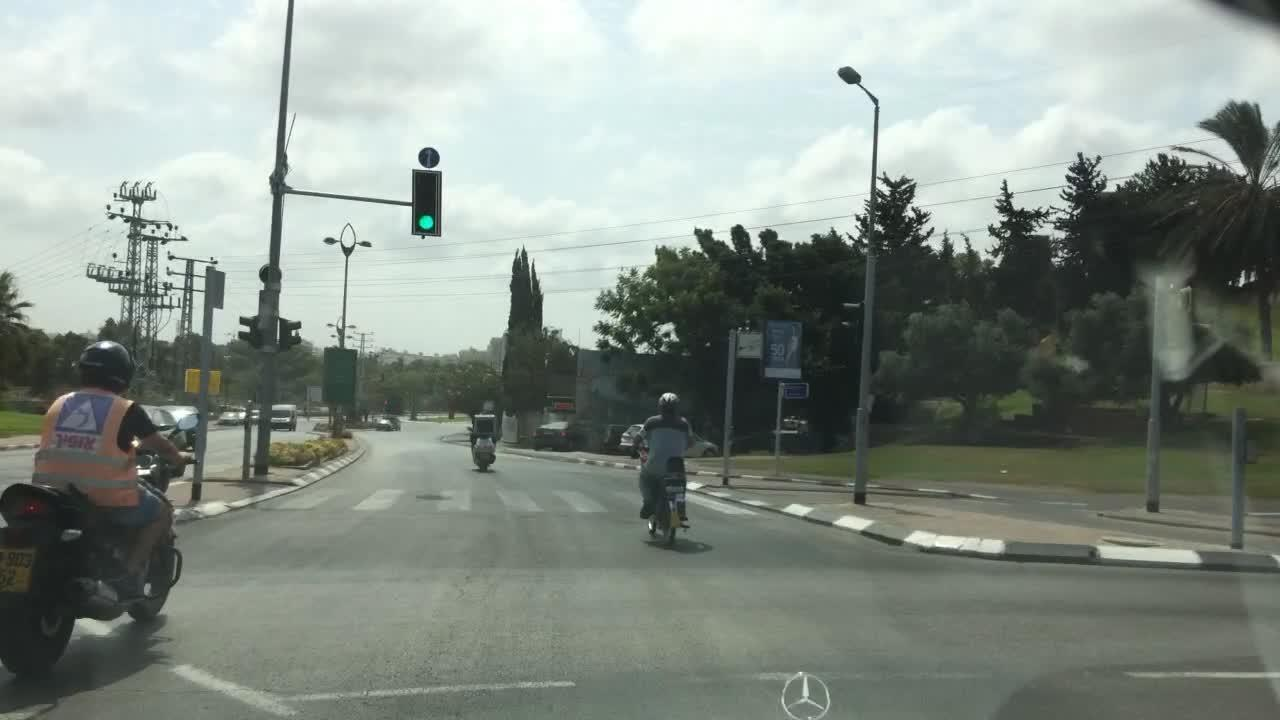Mercedes: (762, 657, 868, 720)
